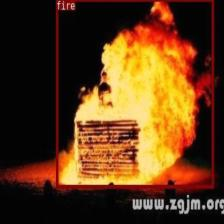fire: (56, 0, 214, 187)
